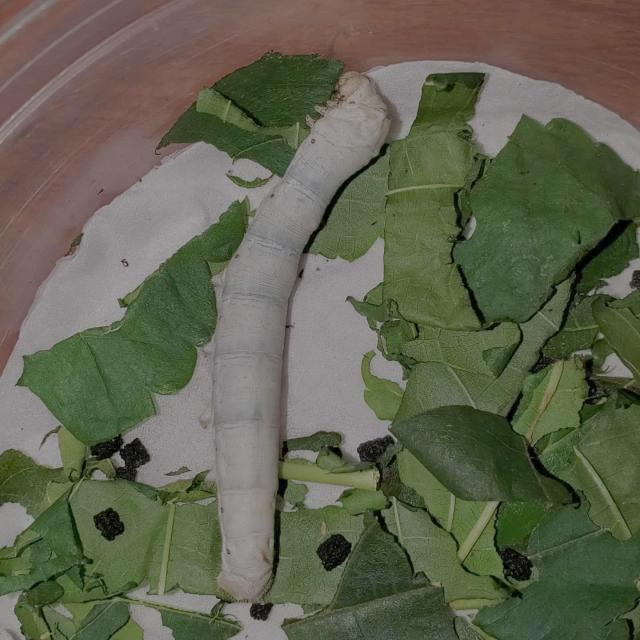Healthy: (153, 49, 411, 622)
